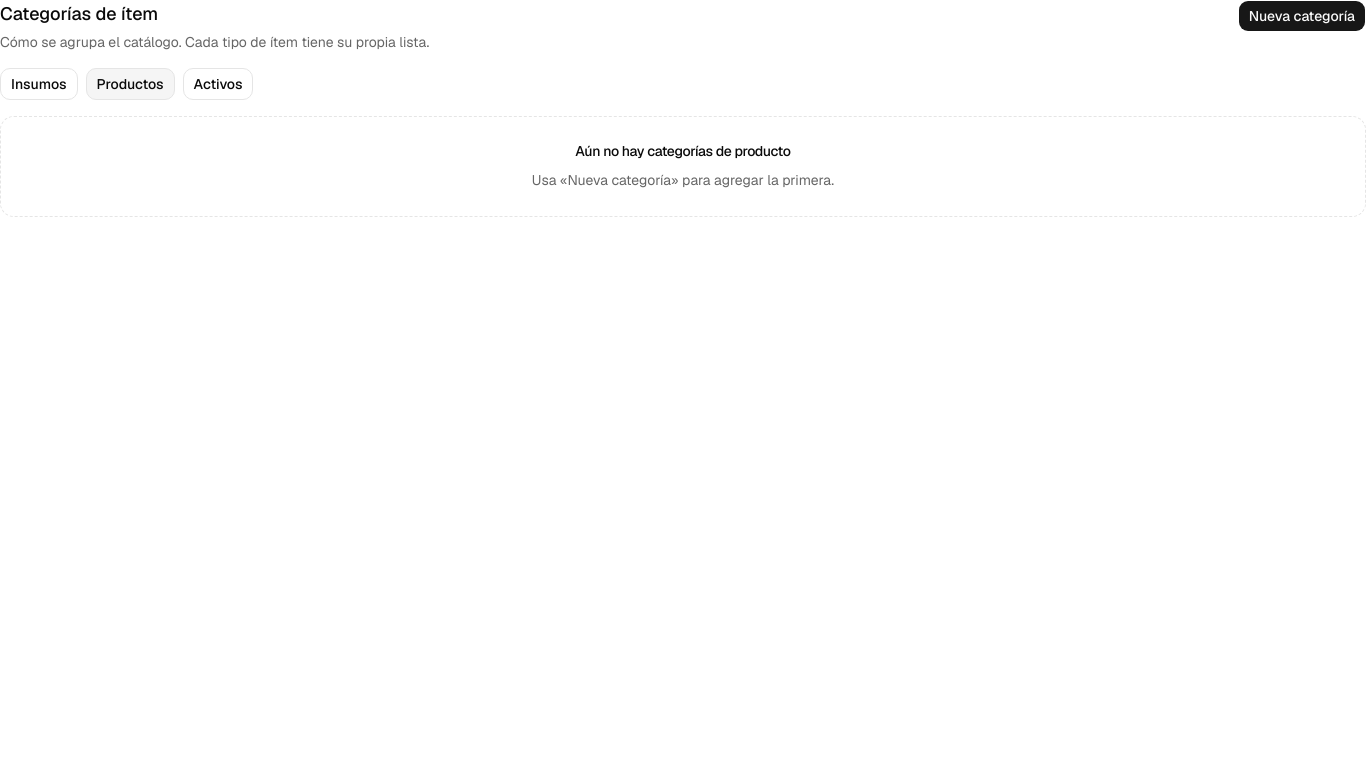
Test: ItemCategoriesSection › «Nueva categoría» en Productos crea una categoría de producto
This screenshot has width=1366, height=768.
Click the button "Nueva categoría".
click(1302, 16)  # box [1238, 0, 1365, 32]
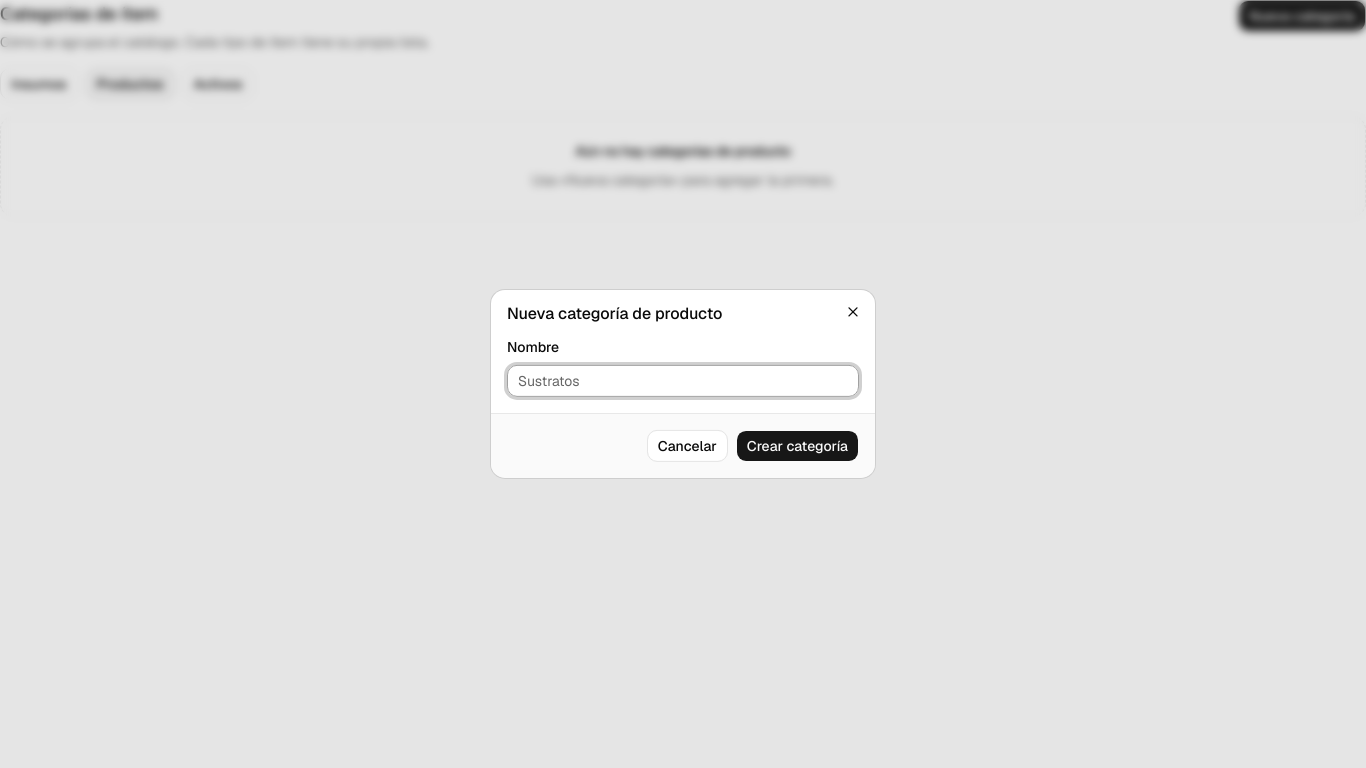
expect the number of fields is 1: met
Type "Vajilla" into the field labelled "Nombre".
click(683, 381); type("Vajilla")  # box [507, 365, 859, 397]
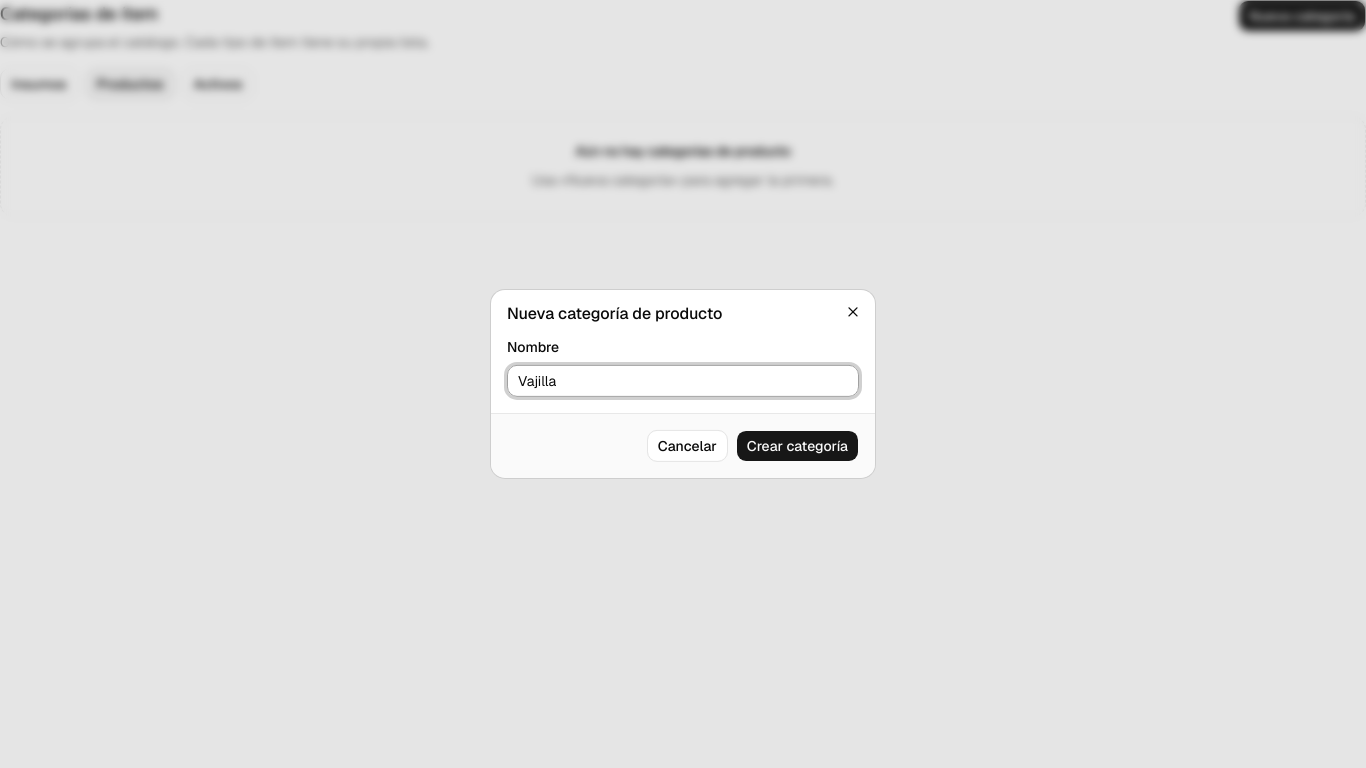
Click the button "Crear categoría".
click(797, 446)  # box [736, 430, 859, 462]
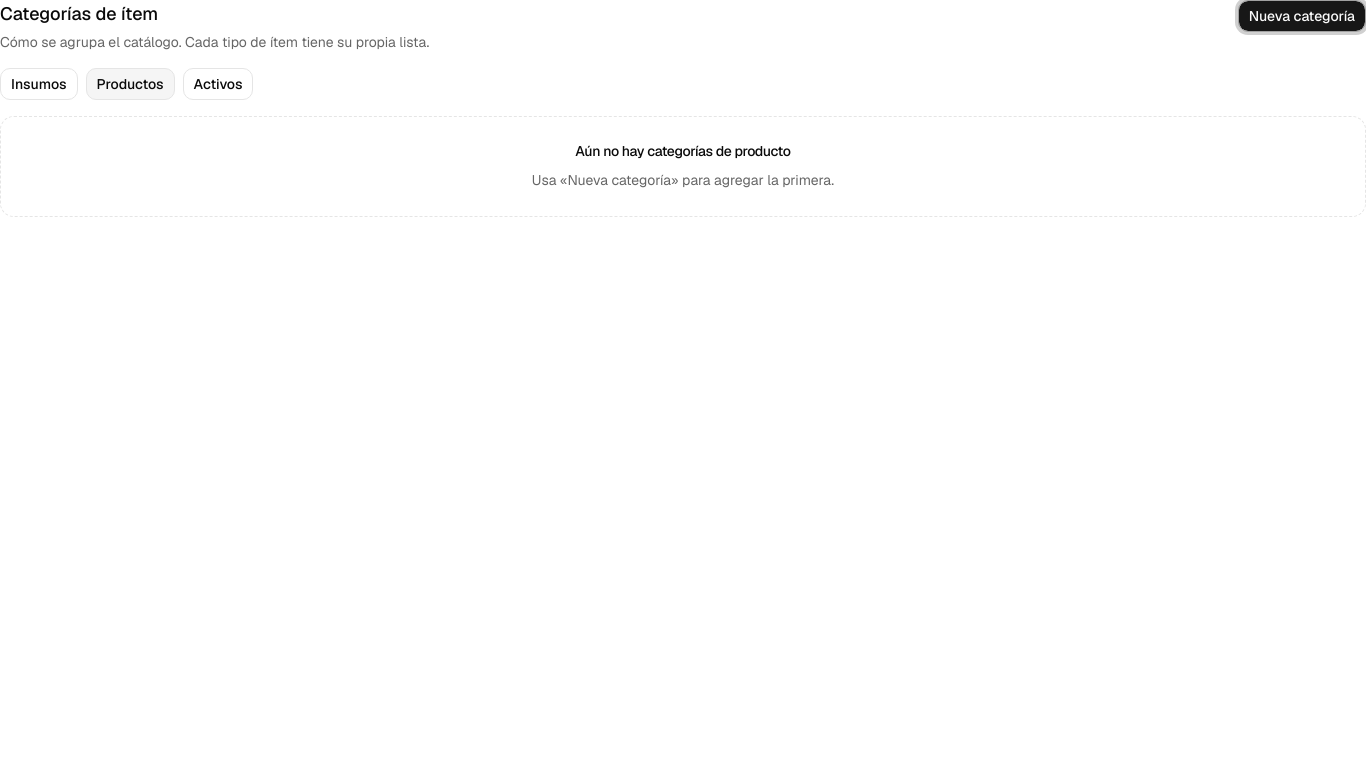
expect the dialog is gone: met
